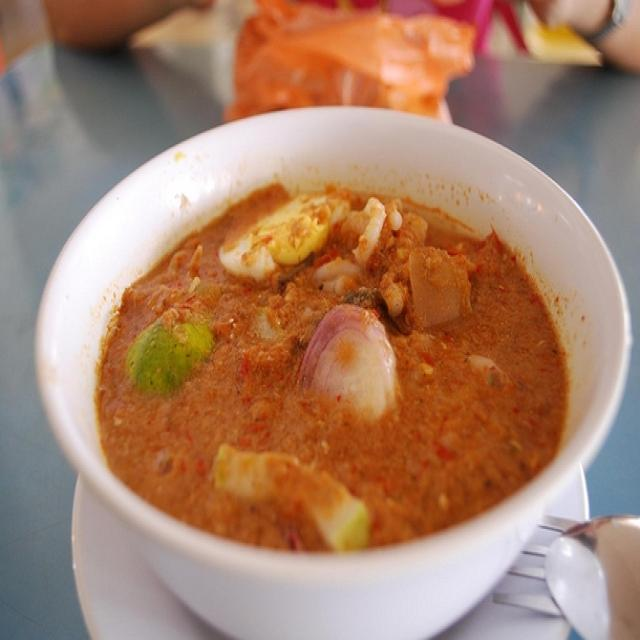面条主食: (43, 72, 632, 585)
